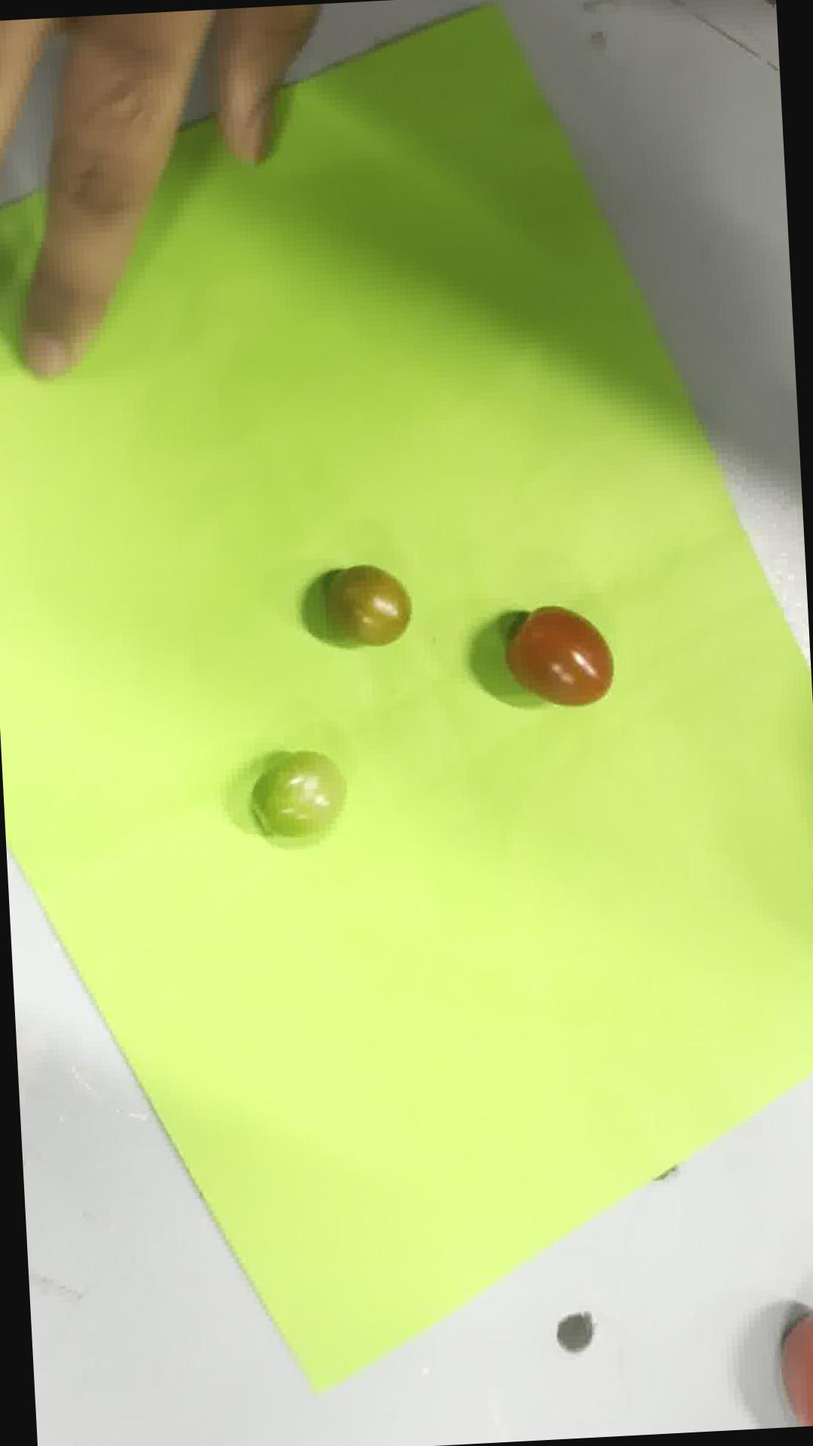green_cherry_tomato: (249, 750, 346, 838)
red_cherry_tomato: (505, 606, 612, 705)
yellow_cherry_tomato: (328, 565, 411, 644)
